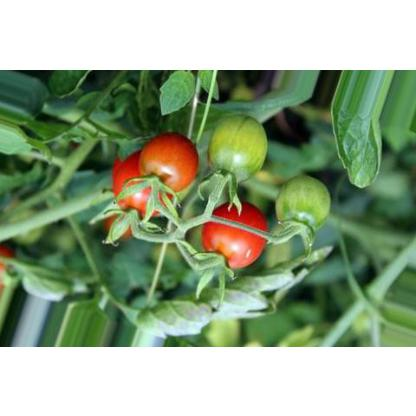tomato: (268, 166, 354, 244), (129, 122, 207, 204), (108, 144, 176, 235), (195, 102, 267, 186), (198, 198, 270, 274)
